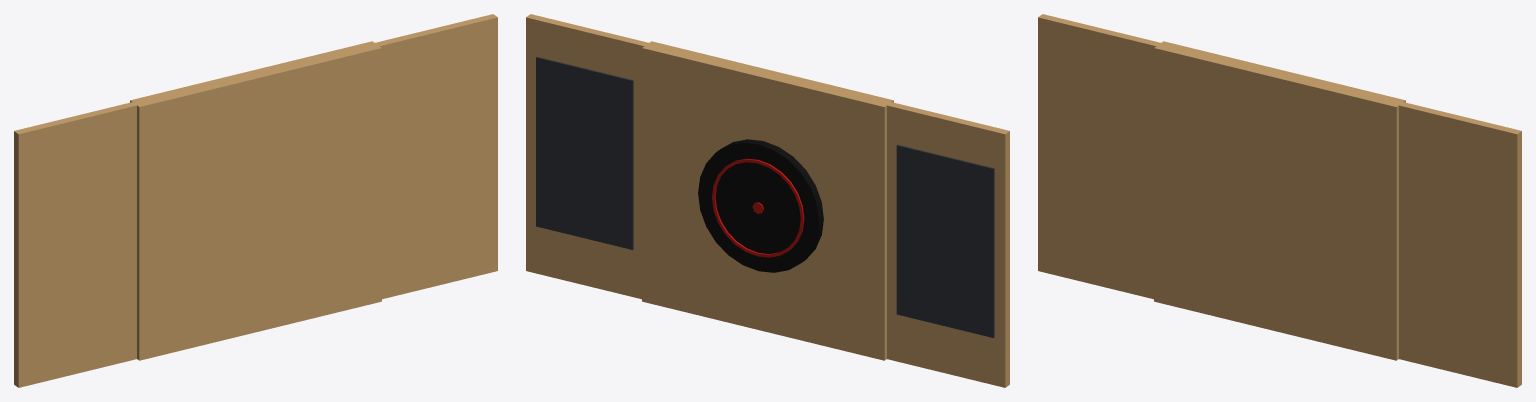
The model's file is hospitality.pub.dartboard.glb.
3 views of the same model, side by side, from view 1: azimuth 30°, elevation 25°; view 2: azimuth 150°, elevation 25°; view 3: azimuth 330°, elevation 25° (orthographic).
Visible parts, largest first — view 1: main__glulam; view 2: main__glulam, main__slate, main__plastic_black, main__plastic_red; view 3: main__glulam.
Boxes of the visible parts, x1=… form: main__glulam: x1=14, y1=14, x2=497, y2=387; main__glulam: x1=526, y1=14, x2=1009, y2=387; main__slate: x1=536, y1=57, x2=994, y2=337; main__plastic_black: x1=698, y1=139, x2=823, y2=272; main__plastic_red: x1=712, y1=158, x2=804, y2=257; main__glulam: x1=1038, y1=14, x2=1521, y2=387.
Bounding box in the file's own units: 1.78 × 0.9 × 0.0965.
